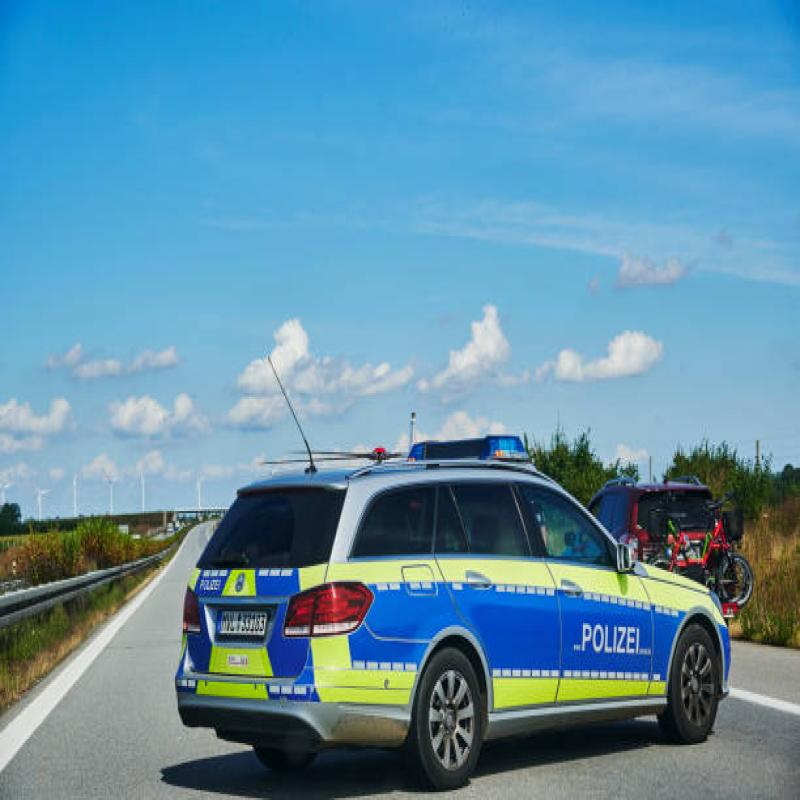AmbulanceSiren: (388, 403, 532, 470)
